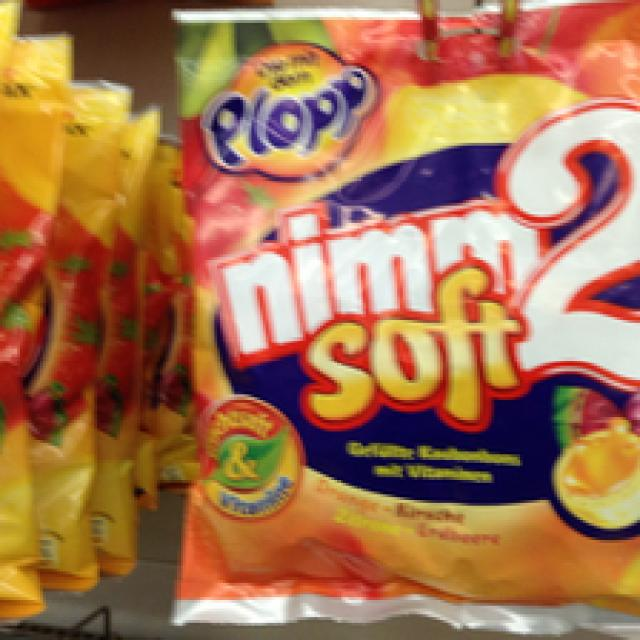groceries: (177, 23, 629, 620)
